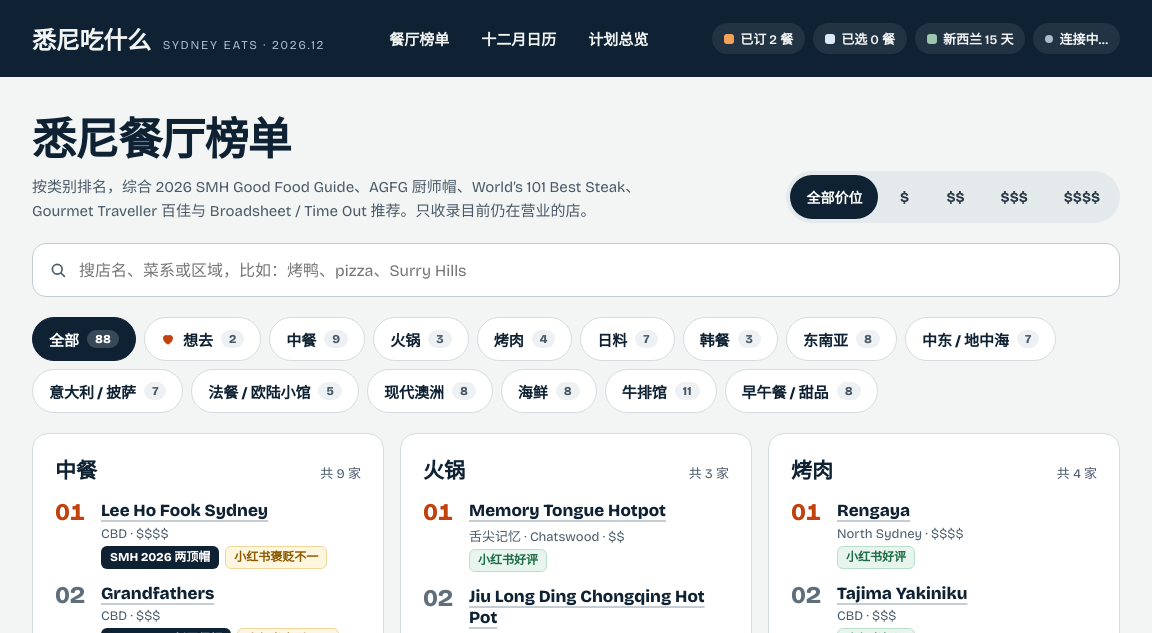
Test: App › keeps focus in the 想去 list while un-saving places
This screenshot has width=1152, height=633.
Click the button "想去 2" at (203, 339), box [144,317,261,361]
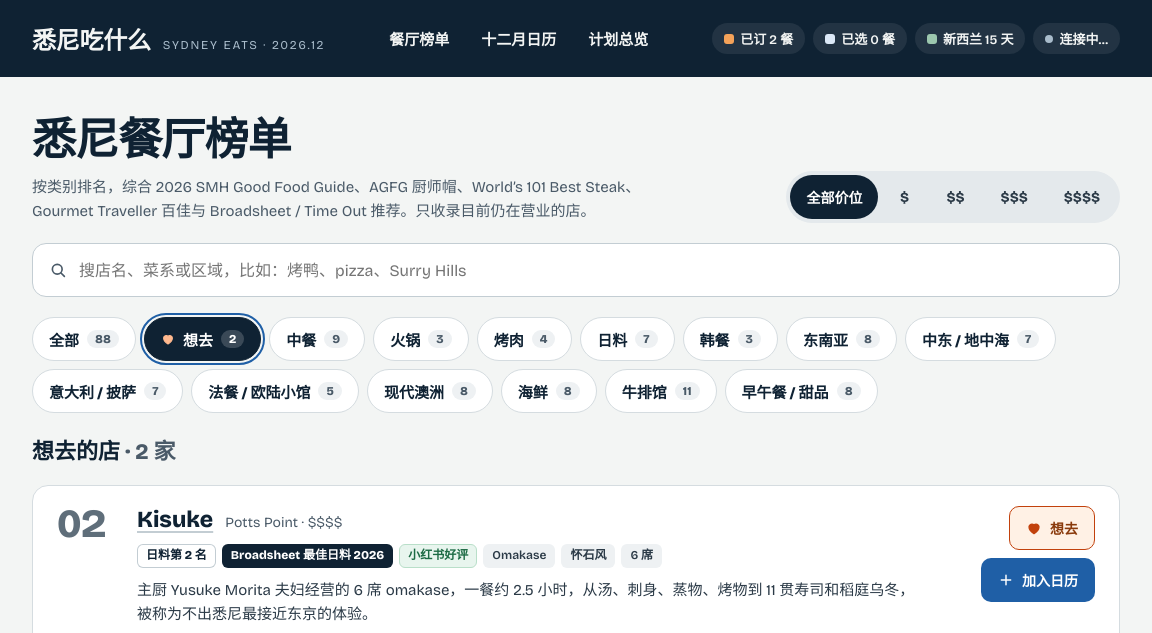
Click the button with aria-label "想去：Kisuke" at (1052, 528), box [1009,506,1095,550]
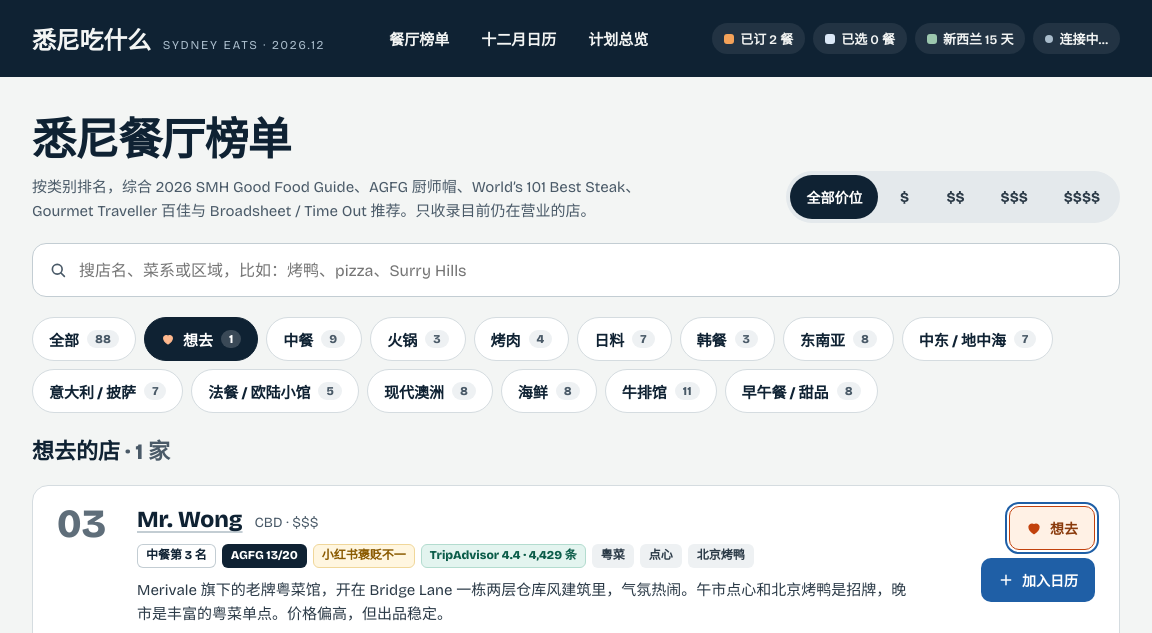
Click the button with aria-label "想去：Mr. Wong" at (1052, 528), box [1009,506,1095,550]
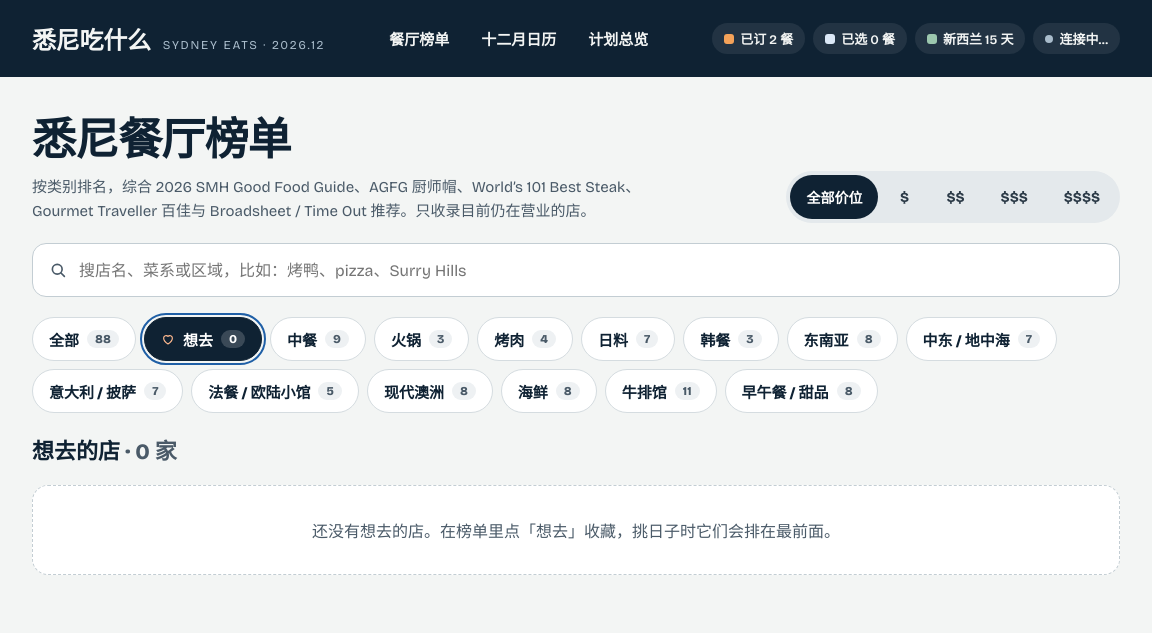
Expected: the text "还没有想去的店。在榜单里点「想去」收藏，挑日子时它们会排在最前面。" is shown, [312,522,840,541]
